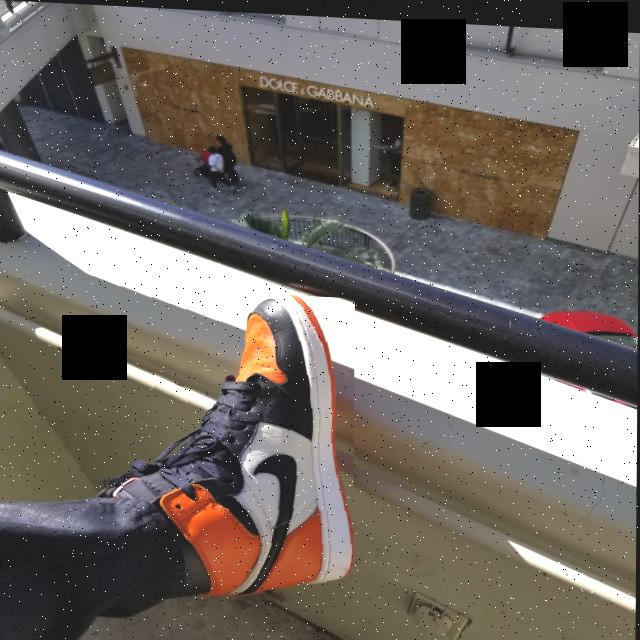shoe: (100, 284, 355, 606)
